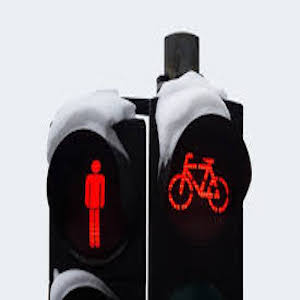red: (165, 151, 233, 215), (78, 160, 112, 249)
